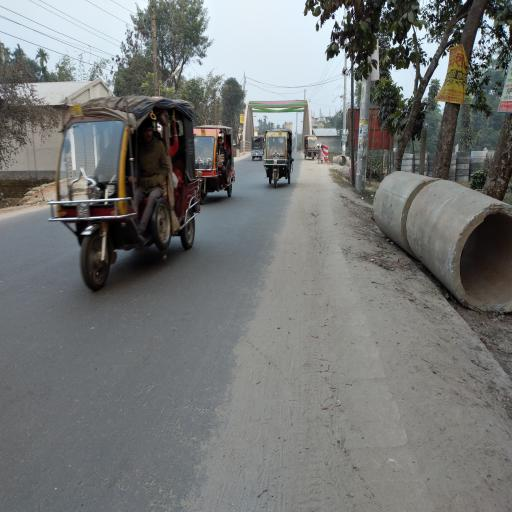auto rickshaw: (46, 94, 199, 294), (194, 120, 237, 208), (264, 131, 296, 193), (251, 136, 264, 162), (304, 136, 317, 162)
bicycle: (319, 147, 322, 166)
